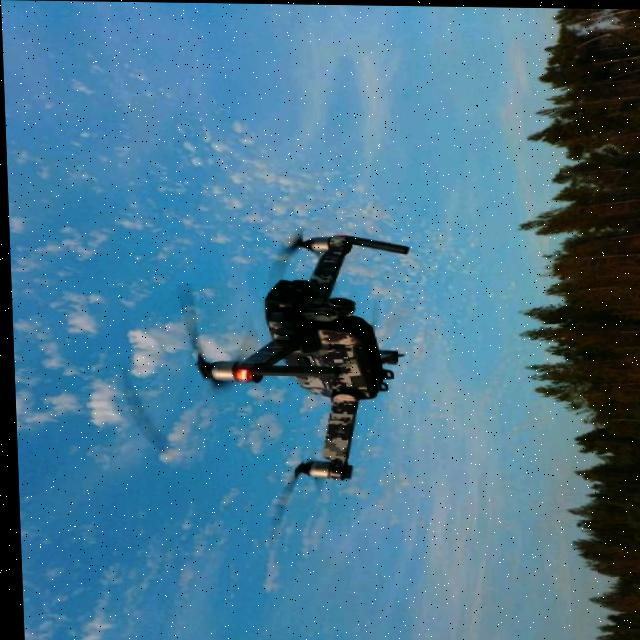drone: (161, 218, 458, 513)
